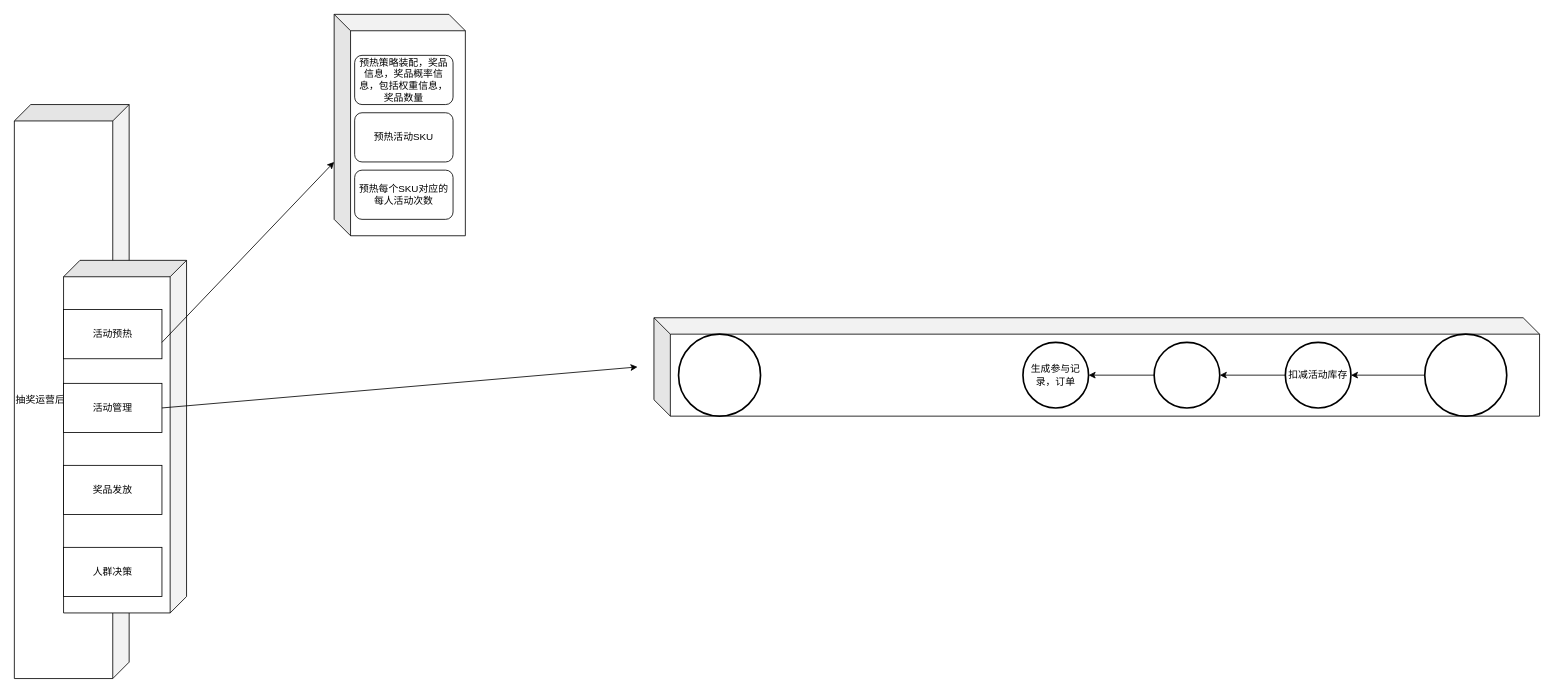
Image size: 1554x693. Some labels were removed from this diagram. The shapes that lost their labels are listed below. From the top down, each one's centre as x and y in pixels, then its label:
At point 719,375: "开启/关闭活动".
At point 1186,374: "更新总，月，日账户额度".
At point 1465,375: "参与活动".
